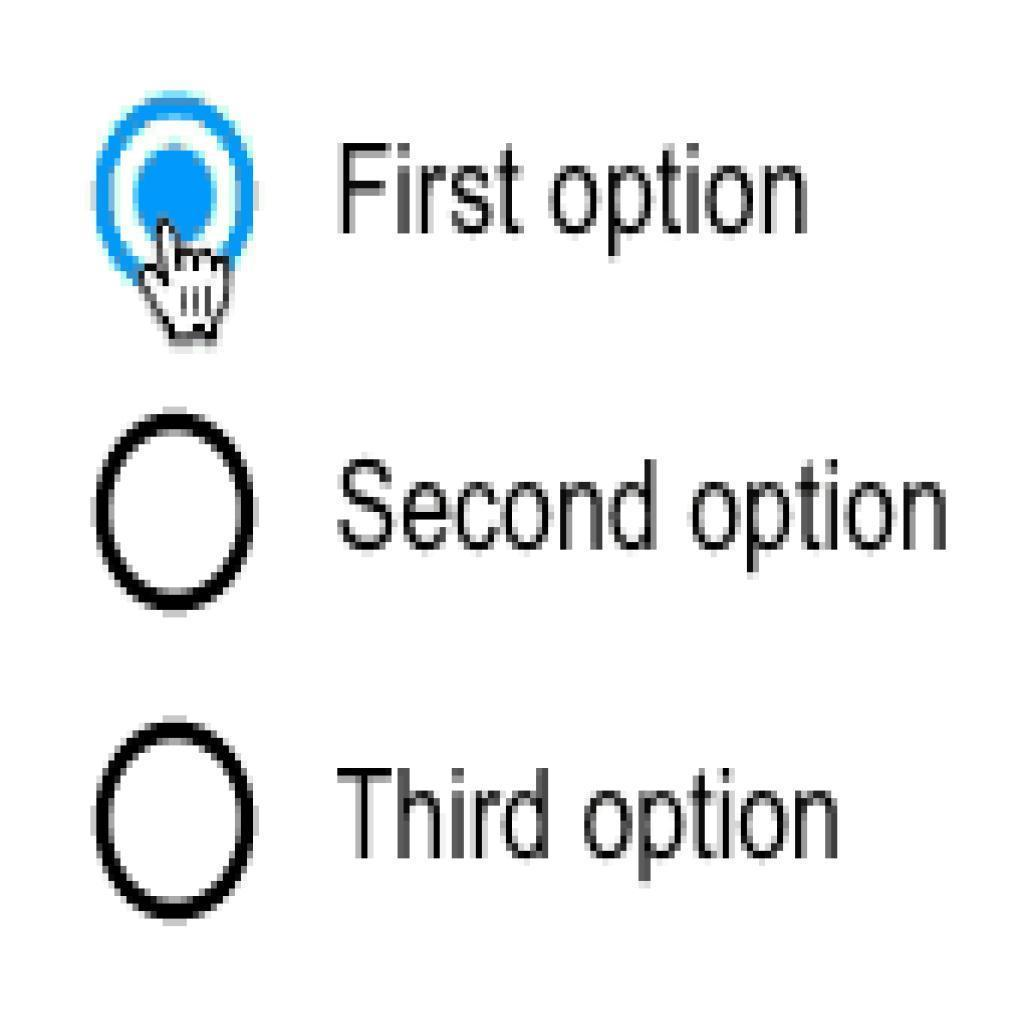label: (331, 447, 966, 584), (329, 756, 843, 895), (329, 129, 822, 267)
radio: (86, 405, 261, 619), (89, 89, 261, 305), (89, 713, 263, 925)
